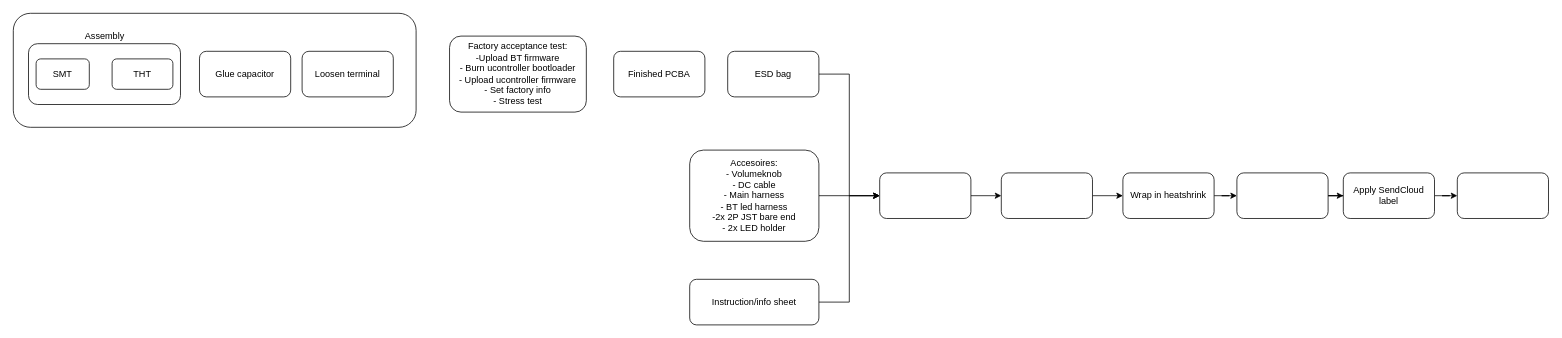
Image size: 1562x338. Some labels were removed from this diagram. The box of each missing label's shape, as (x1, y1, x2, y2) in pixels:
Package label: (1001, 172, 1092, 218)
Package ready to ship: (1457, 172, 1548, 218)
Product package: (879, 172, 971, 218)
Put product package in outer carton: (1236, 172, 1328, 218)
